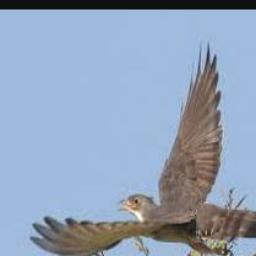Cuckoo: (31, 39, 256, 256)
